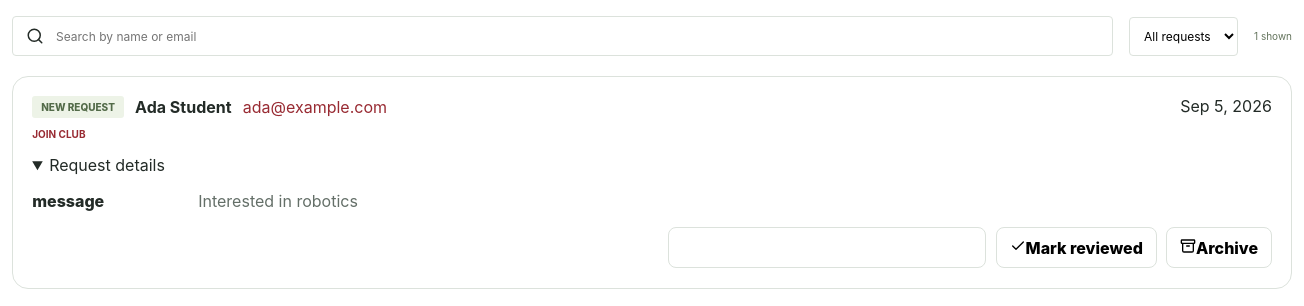
Test case: explains when membership was saved but the inbox item could not be updated
Click the button "Approve membership & send email".
click(827, 248)  # box [668, 227, 986, 268]
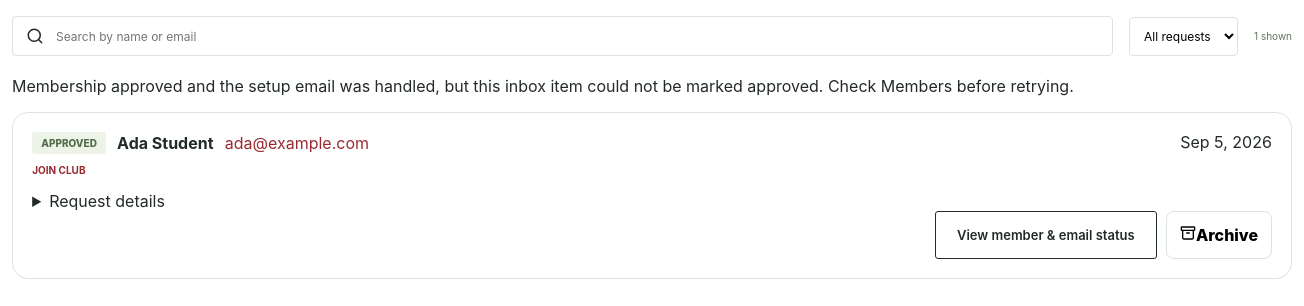
Expected: the 2nd message shows "Membership approved", [12, 76, 1074, 96]
Expected: the button "Approve membership & send email" is gone
